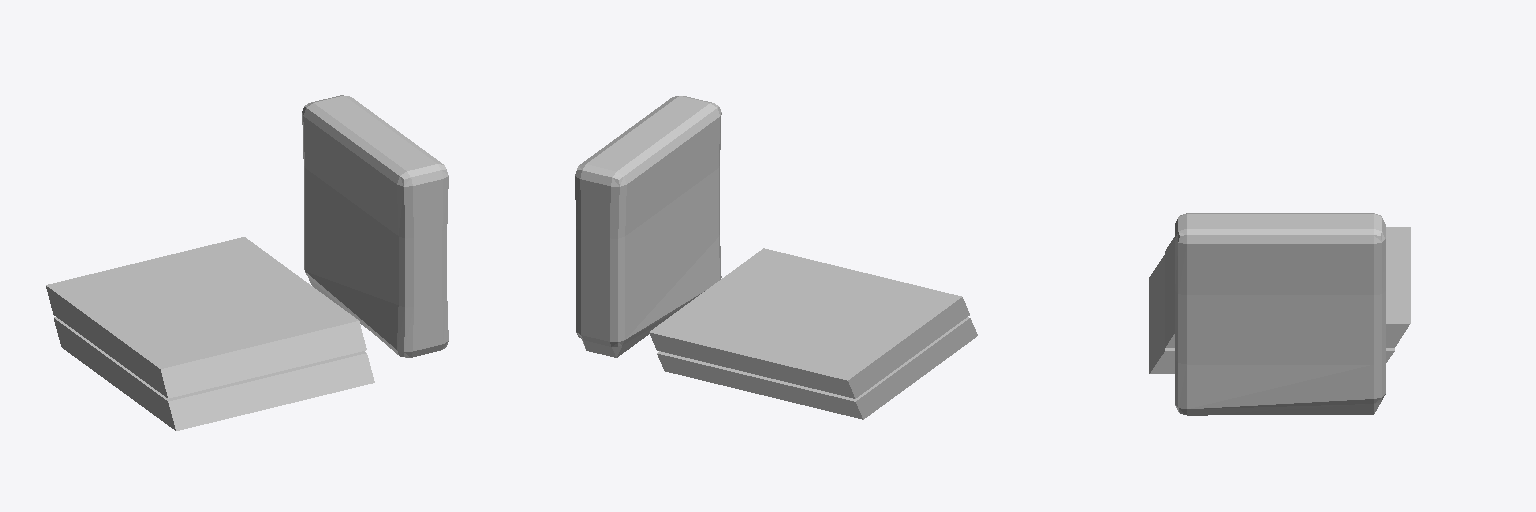
File: Low_Poly_Consoles.obj
3 renders of one model, left to right at view 1: azimuth 30°, elevation 25°; view 2: azimuth 150°, elevation 25°; view 3: azimuth 270°, elevation 25°, orthographic.
Parts seen in each view (by area): view 1: pCube1, pCube2; view 2: pCube1, pCube2; view 3: pCube2, pCube1.
Part boxes in pixels (x1,y1,x2,y2): pCube1: (46, 237, 374, 430); pCube2: (302, 95, 448, 357); pCube1: (649, 248, 977, 419); pCube2: (575, 96, 721, 357); pCube2: (1175, 213, 1385, 415); pCube1: (1149, 227, 1410, 373).
Bounding box in the file's own units: 8.32 × 5.11 × 6.49.